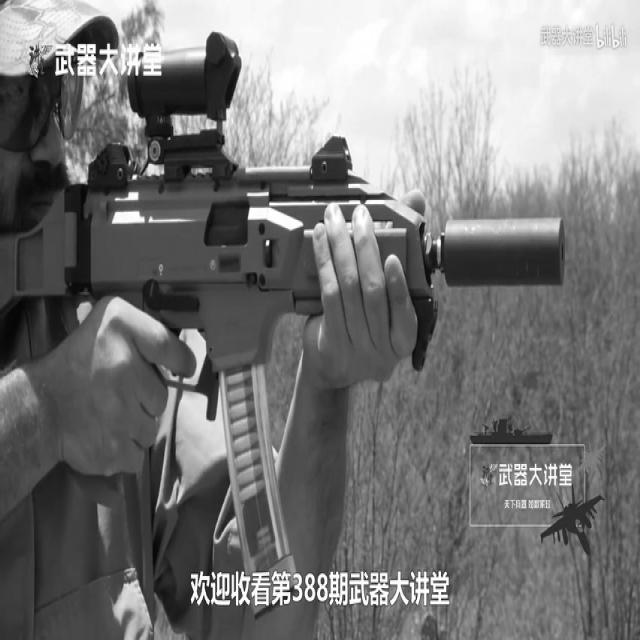Rifle: (17, 31, 560, 548)
